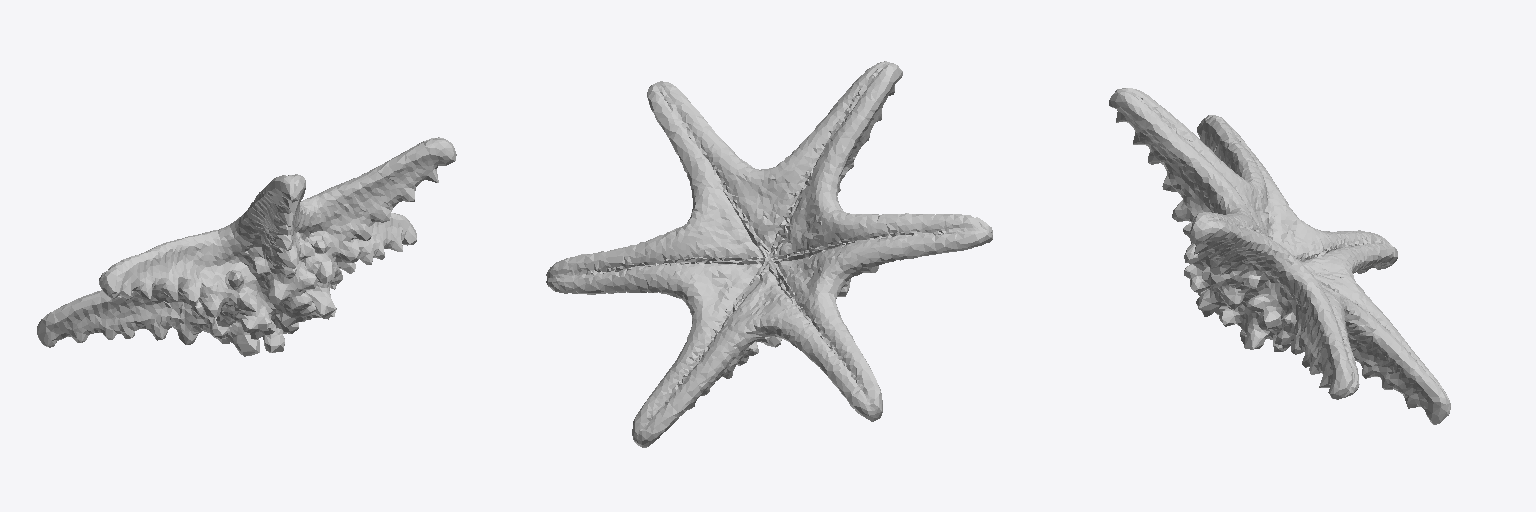
Rendered from seastar.obj.
3 renders of one model, left to right at view 1: azimuth 30°, elevation 25°; view 2: azimuth 150°, elevation 25°; view 3: azimuth 270°, elevation 25°, orthographic.
Parts seen in each view (by area): view 1: Horned_Sea_Star; view 2: Horned_Sea_Star; view 3: Horned_Sea_Star.
Boxes of the visible parts, <box> form: Horned_Sea_Star: <box>37,137,456,356</box>; Horned_Sea_Star: <box>546,61,992,447</box>; Horned_Sea_Star: <box>1109,88,1450,424</box>.
Bounding box in the file's own units: 130 × 96.12 × 102.